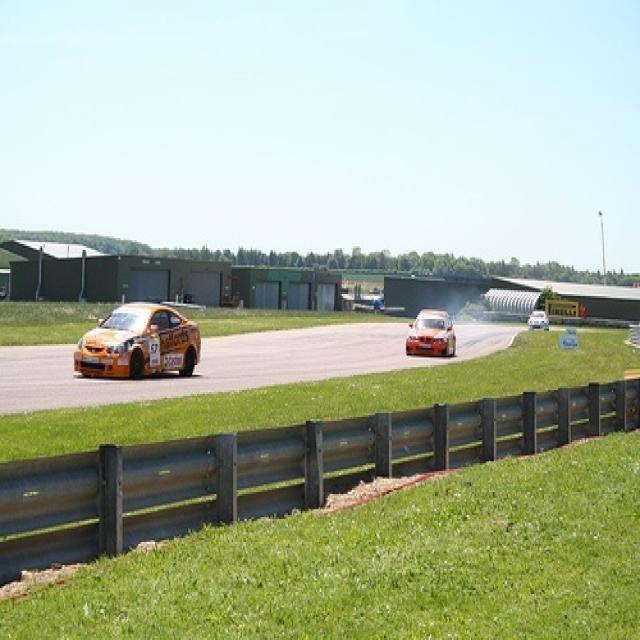car: (74, 302, 201, 378), (406, 308, 457, 356), (527, 310, 552, 330)
